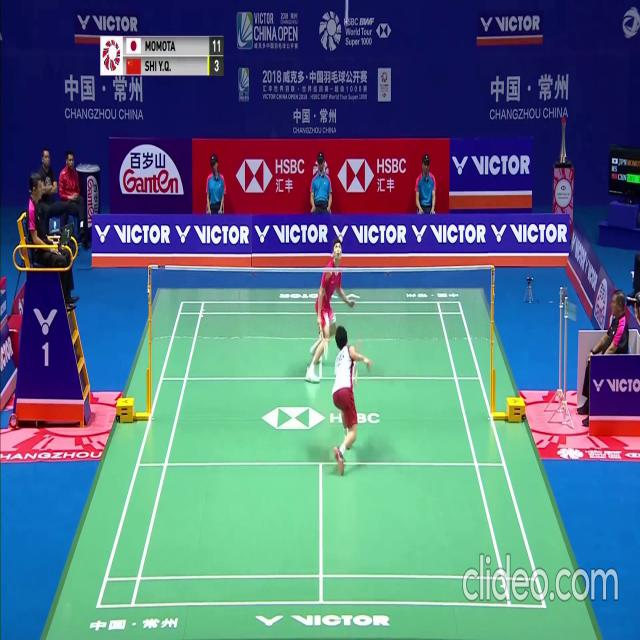Shuttlecock: (344, 0, 349, 6)
